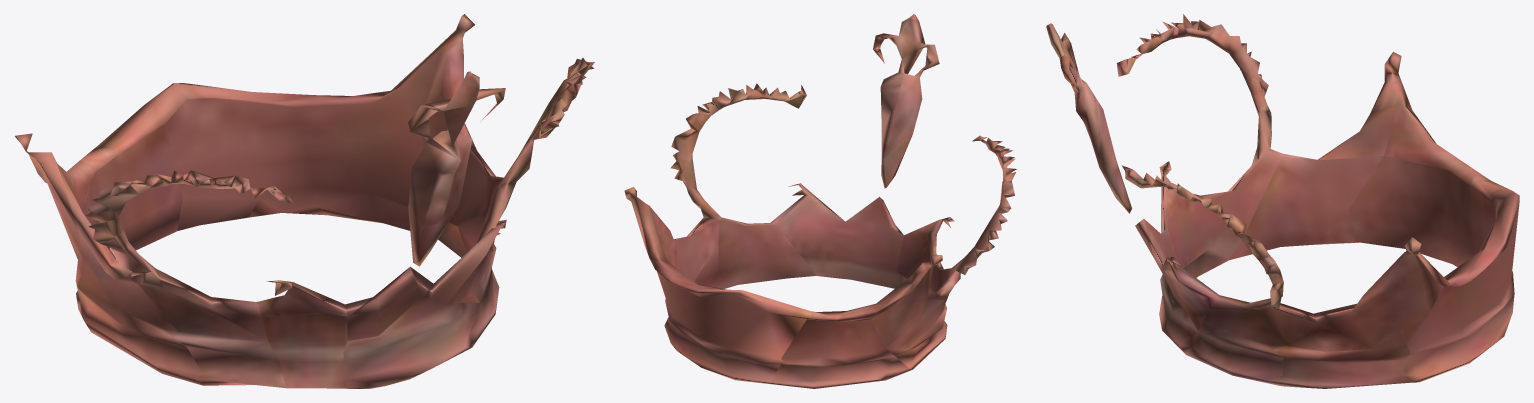
3 renders of one model, left to right at view 1: azimuth 30°, elevation 25°; view 2: azimuth 150°, elevation 25°; view 3: azimuth 270°, elevation 25°, orthographic. The views are drawn at different scales.
Parts seen in each view (by area): view 1: Pink-Crown-05; view 2: Pink-Crown-05; view 3: Pink-Crown-05.
Part boxes in pixels (bbox=[...]): Pink-Crown-05: bbox=[15, 14, 594, 388]; Pink-Crown-05: bbox=[624, 14, 1016, 388]; Pink-Crown-05: bbox=[1046, 14, 1519, 388].
Size of the model in its own units: 0.279 by 0.1917 by 0.2744.
Materials: 1 (1 with a texture image).
